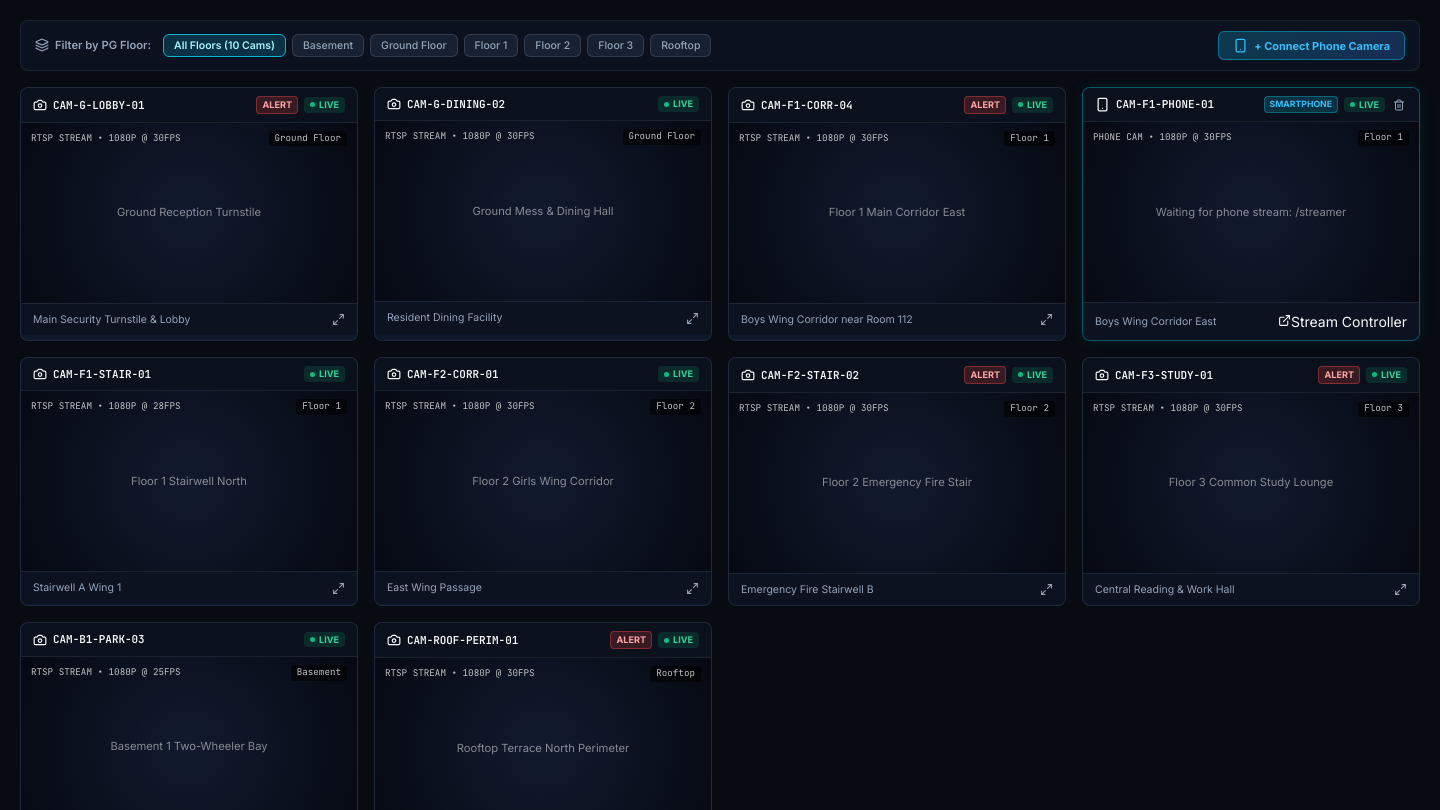
it: CameraGrid & Multi-Floor Phone Camera Addition › filters cameras by selected floor
Click Floor 1 filter button
Click the button "Floor 1": (491, 46) [464,34,518,57]
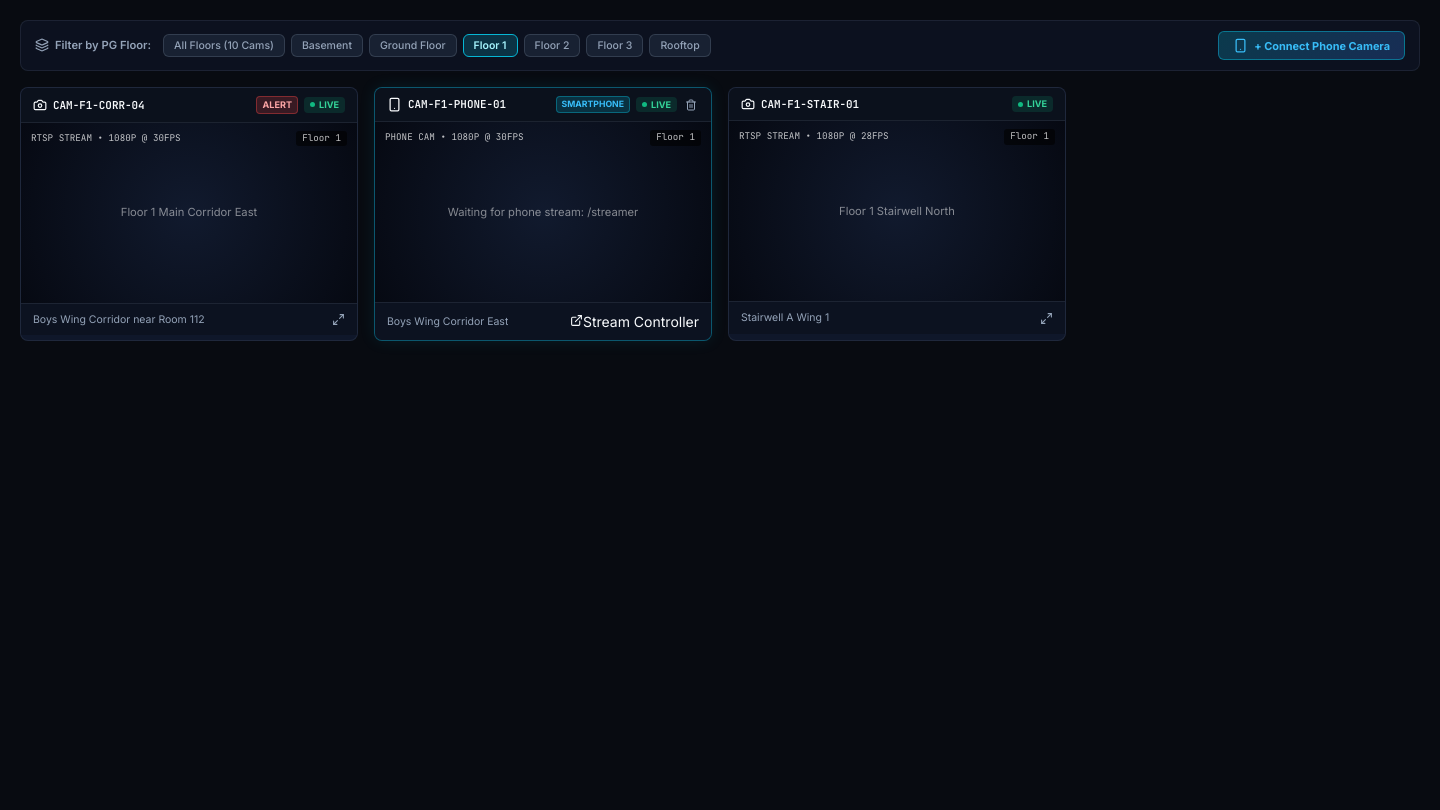
Expected: the text "CAM-F1-PHONE-01" is shown, [408,96,506,113]
Result: the text "CAM-G-DINING-02" is gone
